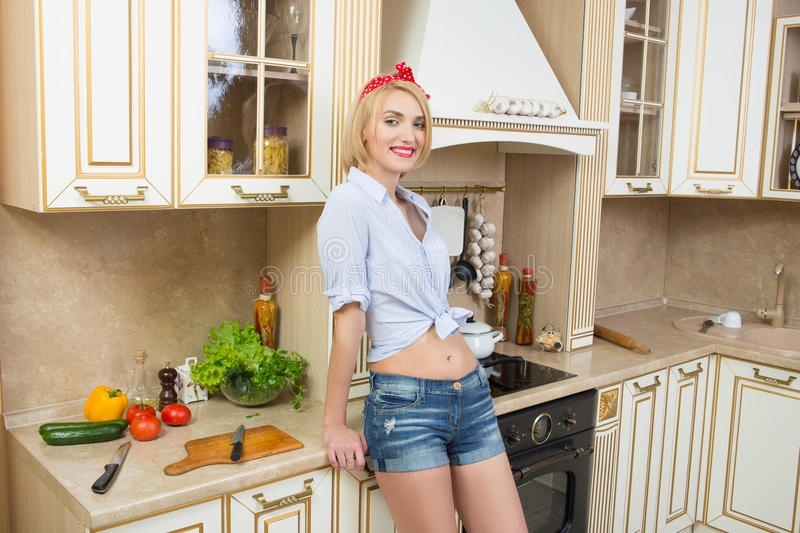not_fallen: (318, 67, 531, 533)
